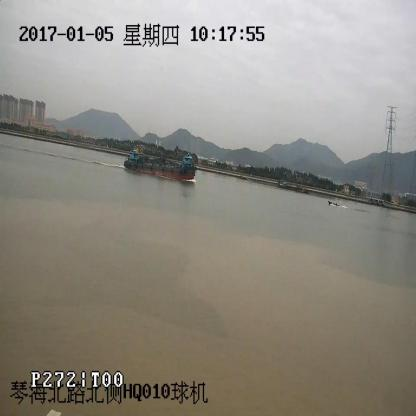Bulk Carrier: (124, 144, 195, 178)
